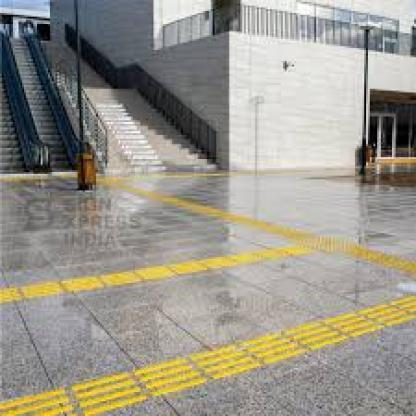podotacti: (0, 164, 416, 416)
